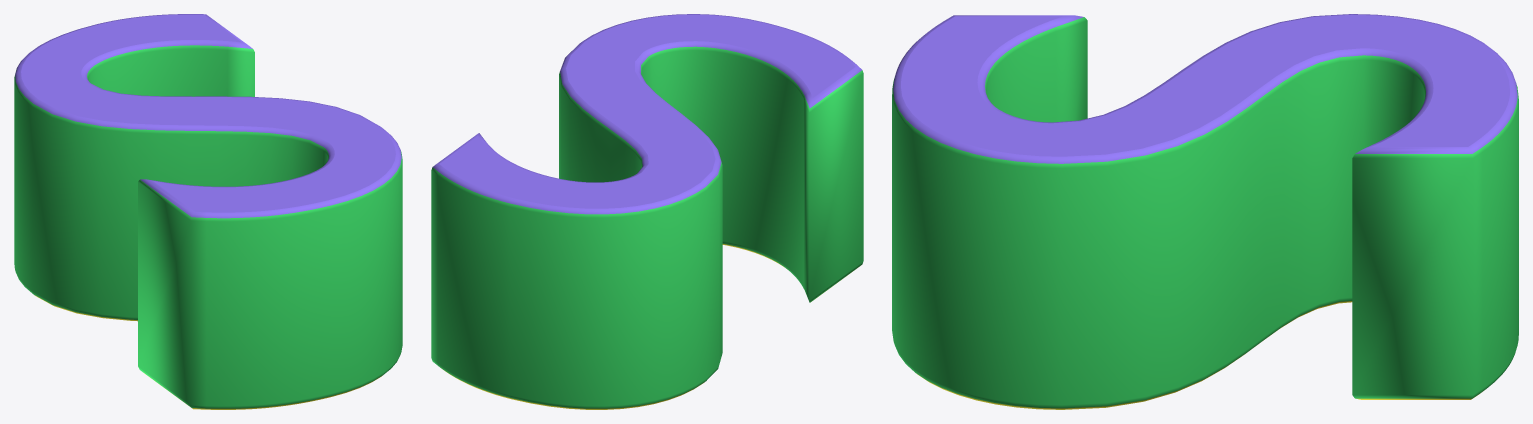
File: letter_S.fbx
The picture shows the model from 3 angles, left to right: view 1: azimuth 30°, elevation 25°; view 2: azimuth 150°, elevation 25°; view 3: azimuth 270°, elevation 25°; orthographic projection. The views are drawn at different scales.
Visible parts, largest first — view 1: Letter_S; view 2: Letter_S; view 3: Letter_S.
Boxes of the visible parts, <box> form: Letter_S: <box>14,14,402,409</box>; Letter_S: <box>431,14,863,409</box>; Letter_S: <box>892,14,1518,409</box>.
Bounding box in the file's own units: 40.61 × 32 × 72.
